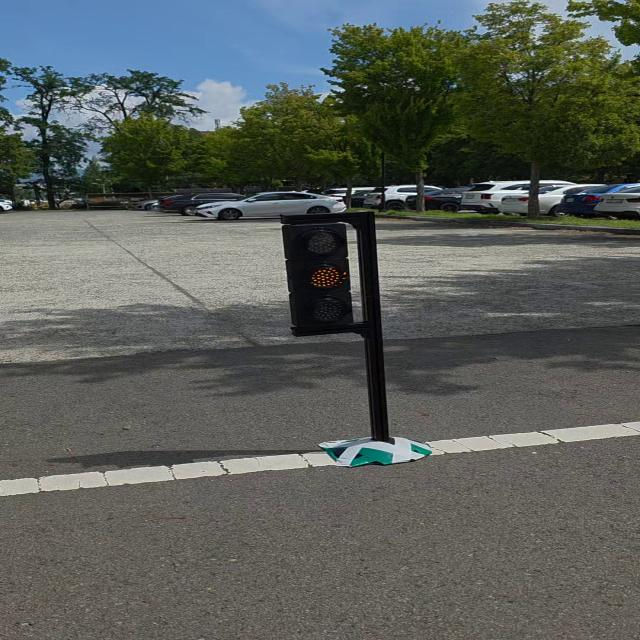yellow: (280, 218, 366, 342)
